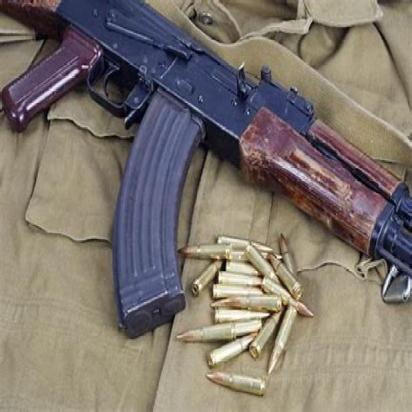Gun: (8, 2, 411, 294)
